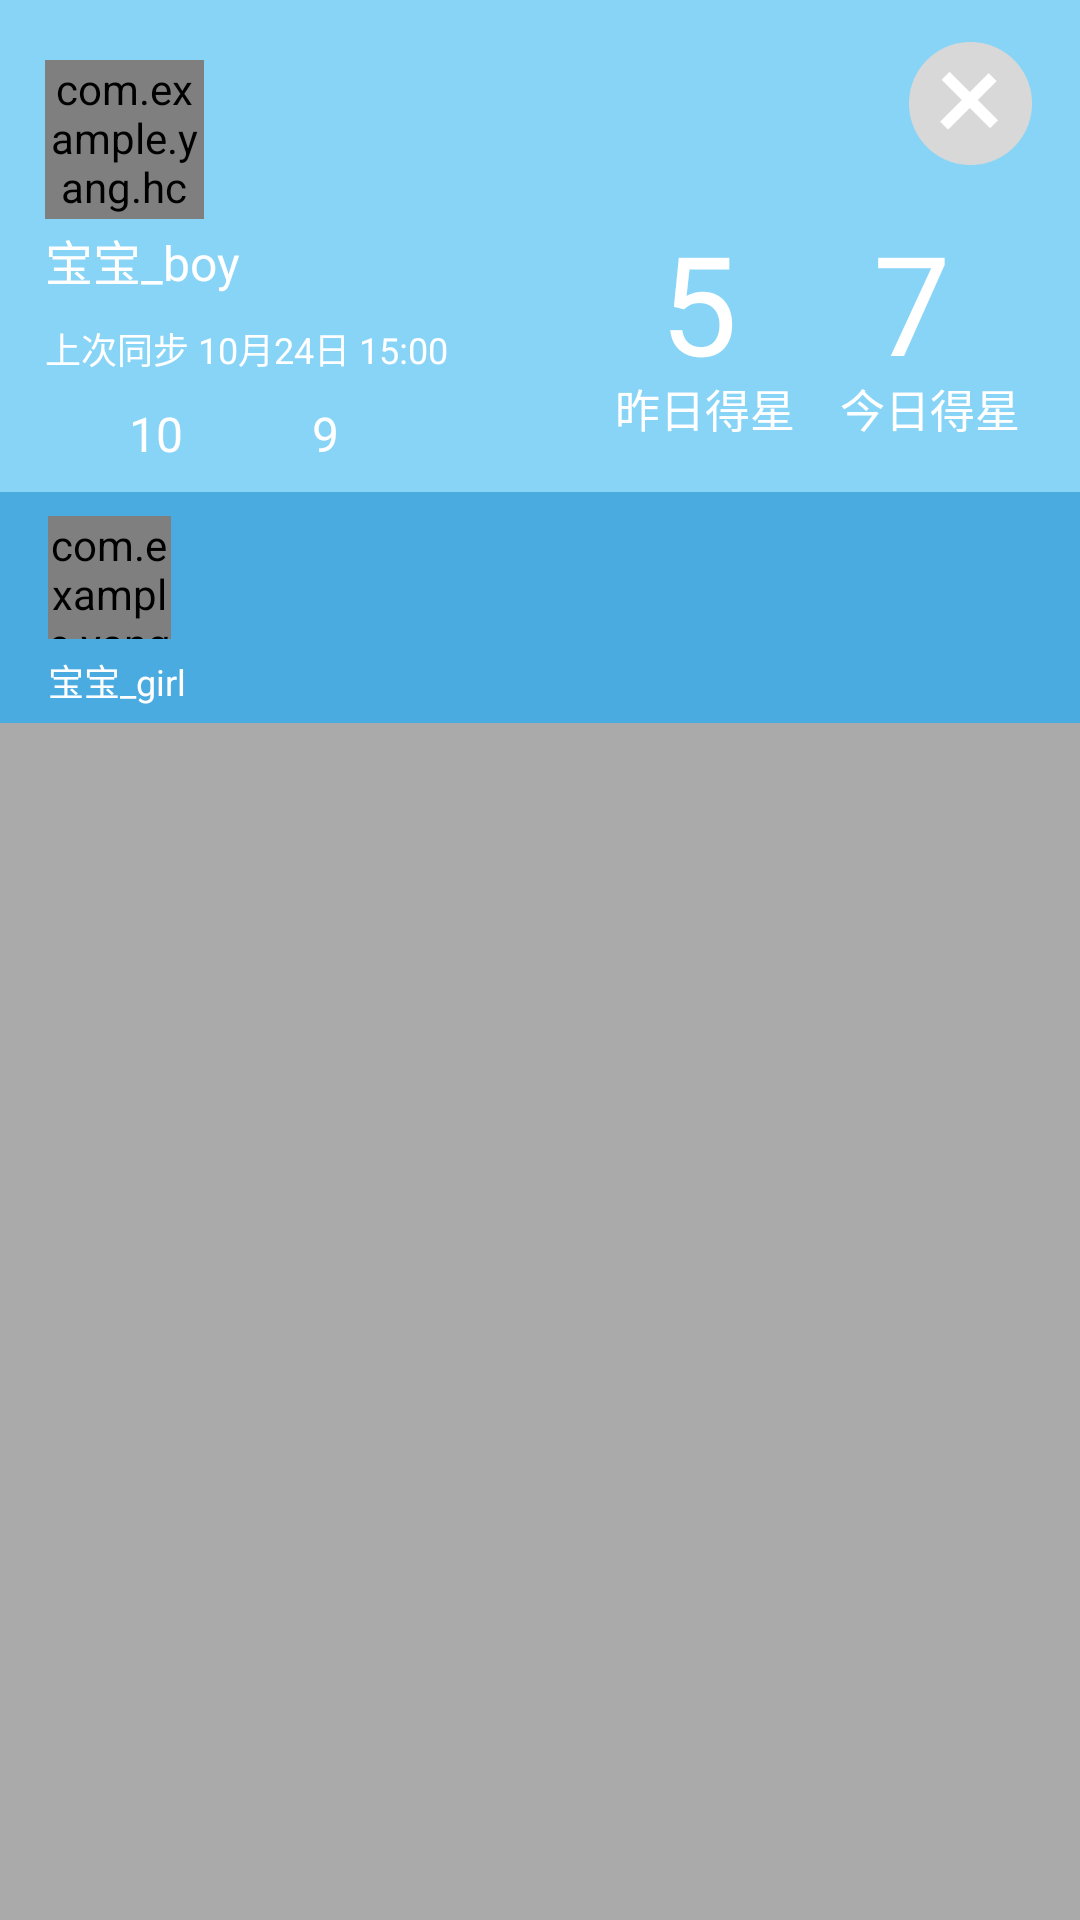

Screen size 1080px×1920px. Icon name, then its center in pixels as [x,y]:
close: [970,103]
